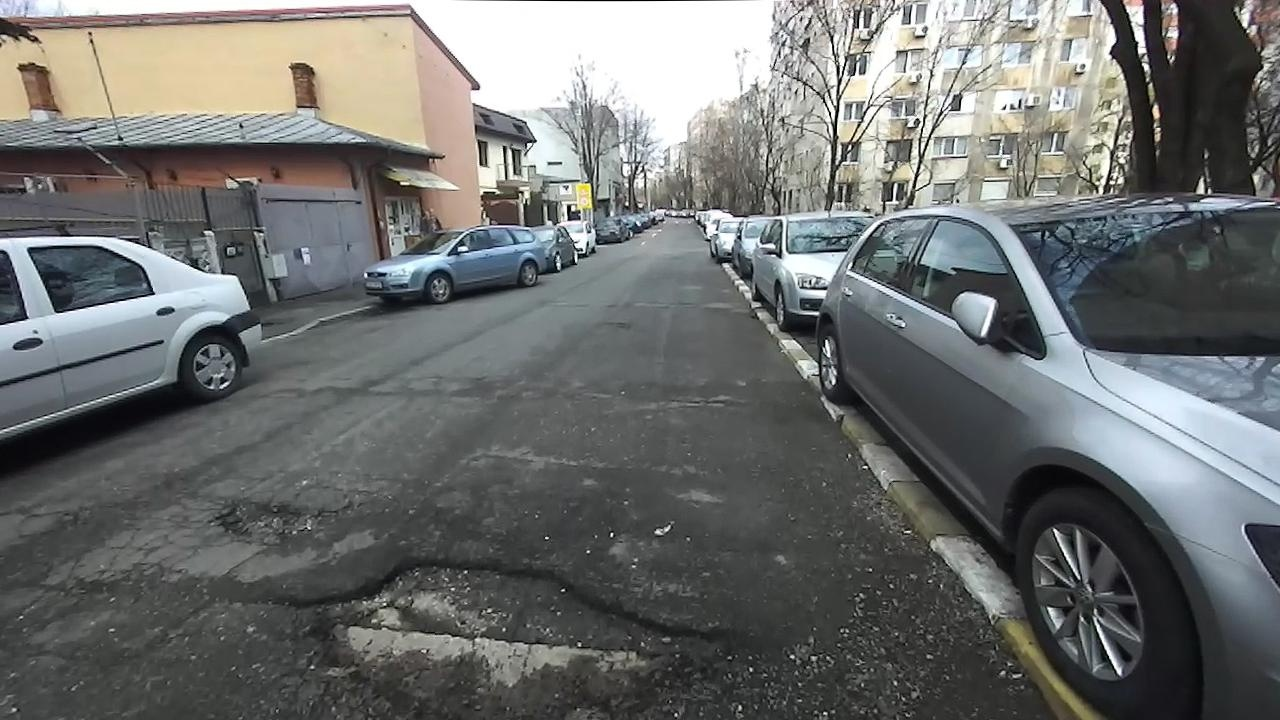pothole: (269, 553, 746, 718), (202, 487, 357, 550), (658, 389, 735, 413)
